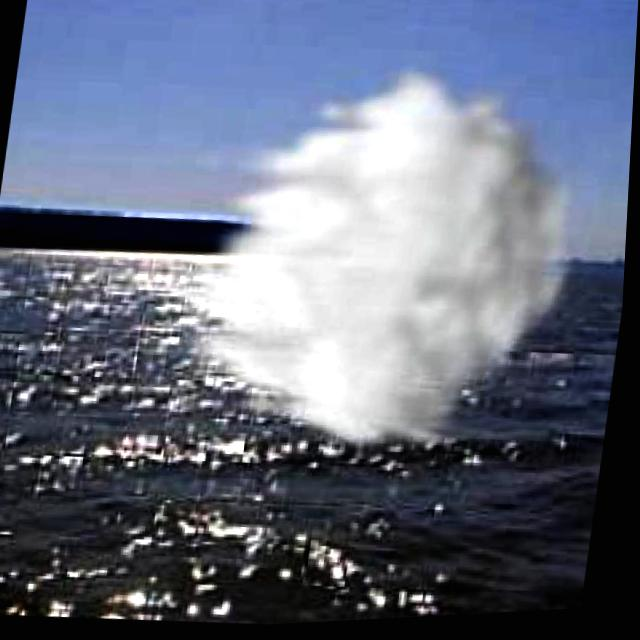Smoke: (136, 37, 610, 482)
